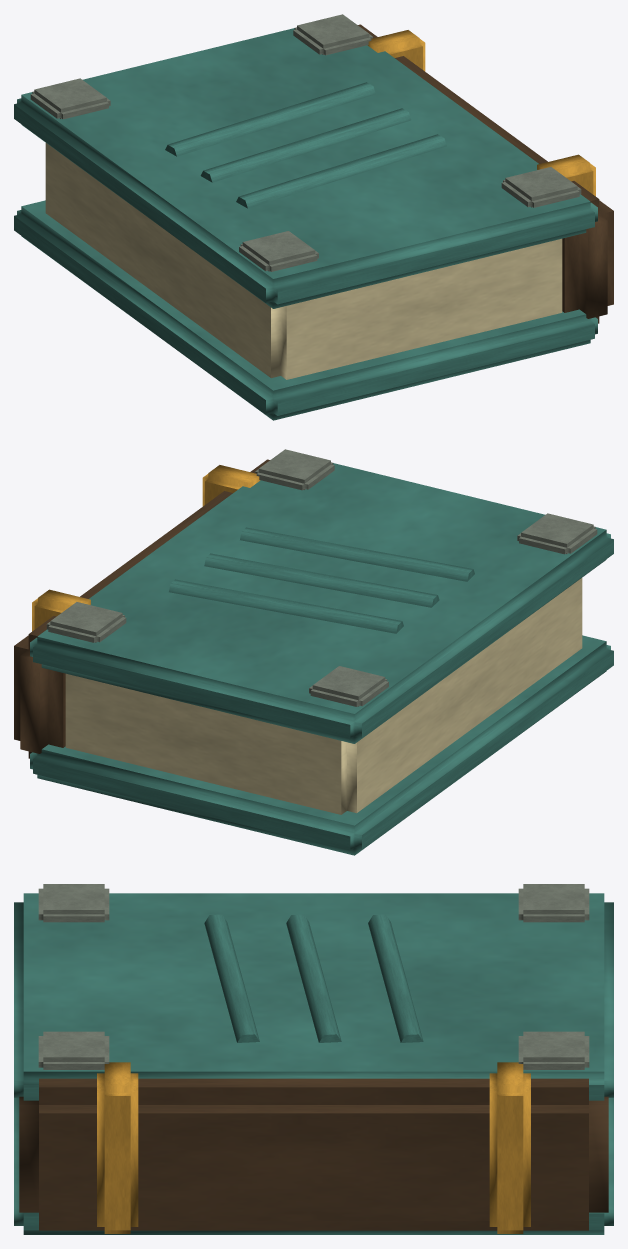
Rendered from item-RenderedSteamGrimoire.fbx.
3 renders of one model, top to bottom at view 1: azimuth 30°, elevation 25°; view 2: azimuth 150°, elevation 25°; view 3: azimuth 270°, elevation 25°, orthographic. The views are drawn at different scales.
Visible parts, largest first — view 1: item-RenderedSteamGrimoire__Geometry; view 2: item-RenderedSteamGrimoire__Geometry; view 3: item-RenderedSteamGrimoire__Geometry.
Part boxes in pixels (x1,y1,x2,y2): item-RenderedSteamGrimoire__Geometry: [14, 14, 613, 420]; item-RenderedSteamGrimoire__Geometry: [14, 449, 613, 855]; item-RenderedSteamGrimoire__Geometry: [14, 884, 613, 1234].
Size of the model in its own units: 0.445 by 0.177 by 0.55.
1 material, 1 textured.
